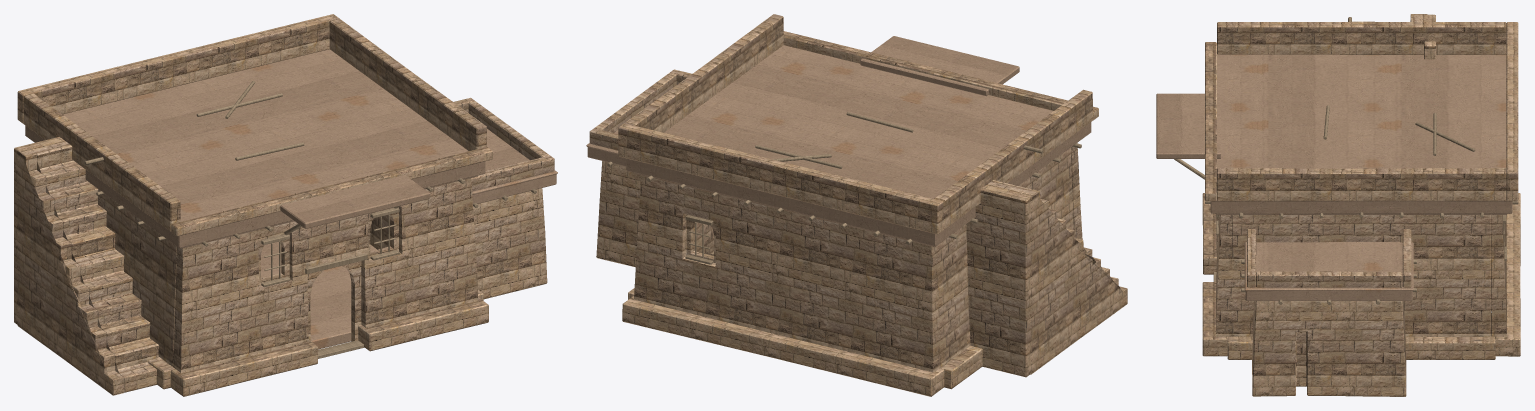
The picture shows the model from 3 angles, left to right: view 1: azimuth 30°, elevation 25°; view 2: azimuth 150°, elevation 25°; view 3: azimuth 270°, elevation 25°; orthographic projection. The views are drawn at different scales.
Visible parts, largest first — view 1: house; view 2: house; view 3: house.
Boxes of the visible parts, left/top/right/bottom form: house: left=14, top=14, right=557, bottom=396; house: left=586, top=14, right=1127, bottom=396; house: left=1156, top=14, right=1520, bottom=396.
Bounding box in the file's own units: 13.79 × 5.58 × 9.85.
Materials: 3 (3 with a texture image).
